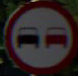No overtake: (8, 7, 70, 68)
